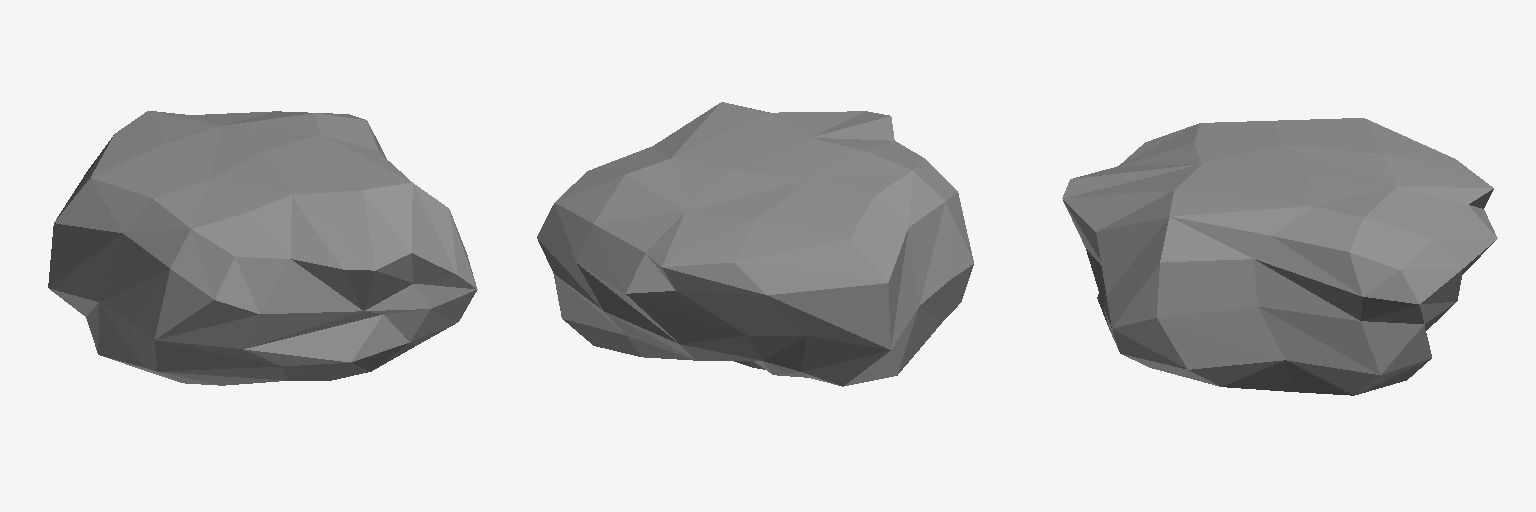
File: Rock1.obj
3 views of the same model, side by side, from view 1: azimuth 30°, elevation 25°; view 2: azimuth 150°, elevation 25°; view 3: azimuth 270°, elevation 25° (orthographic).
Visible parts, largest first — view 1: Cube; view 2: Cube; view 3: Cube.
Boxes of the visible parts, x1,y1,x2,y2 form: Cube: [48, 111, 477, 385]; Cube: [537, 102, 973, 386]; Cube: [1062, 118, 1497, 395].
Size of the model in its own units: 3.18 by 1.68 by 3.63.